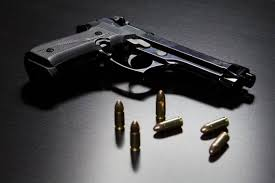gun: (24, 9, 259, 92)
